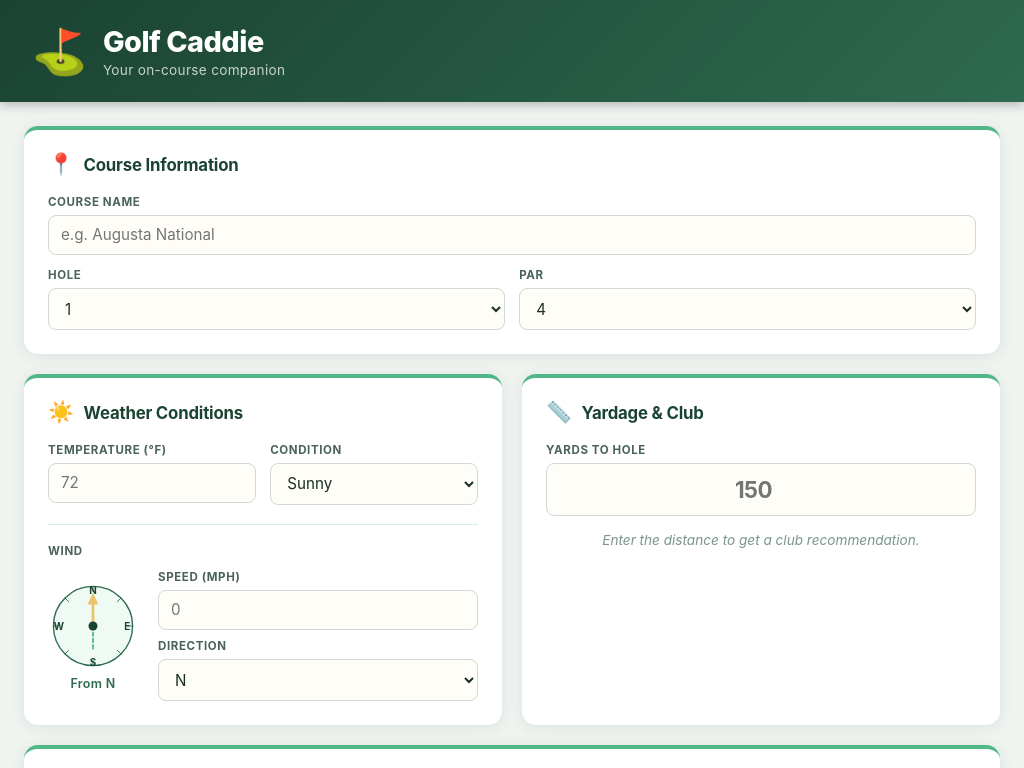
Scenario: WeatherCard › updates wind direction and reflects in compass label
Select "SW" in the dropdown labelled "Direction" at (318, 680), box [158, 659, 478, 701]
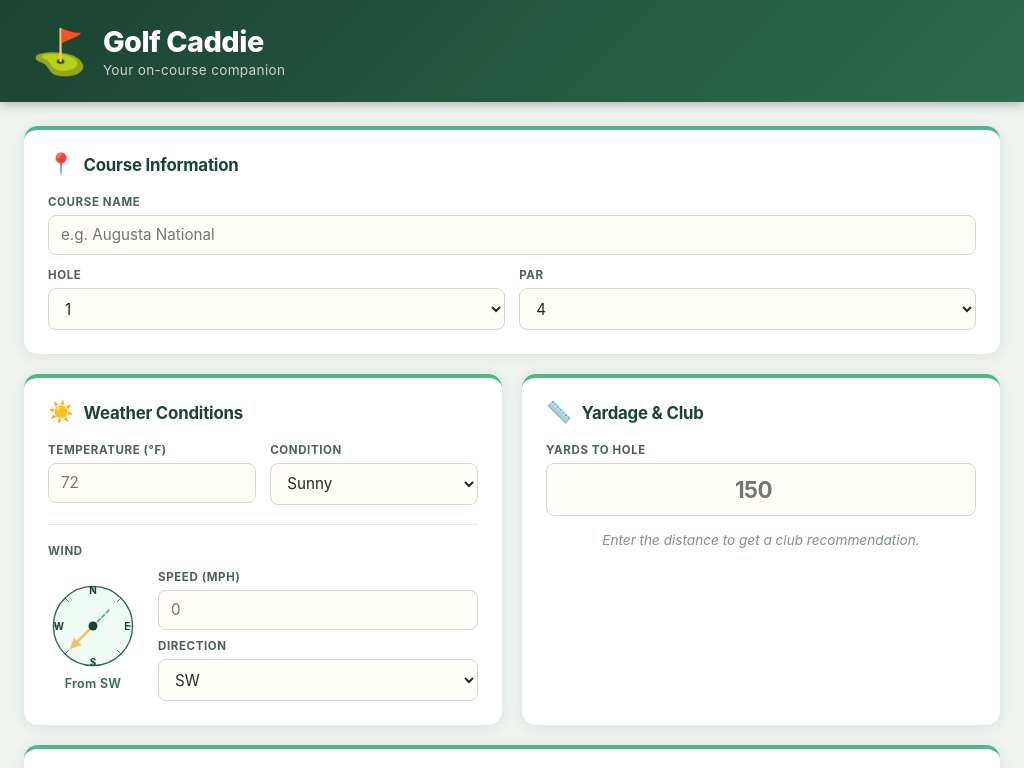
Check: the text "From SW" is shown, box [65, 676, 121, 691]
